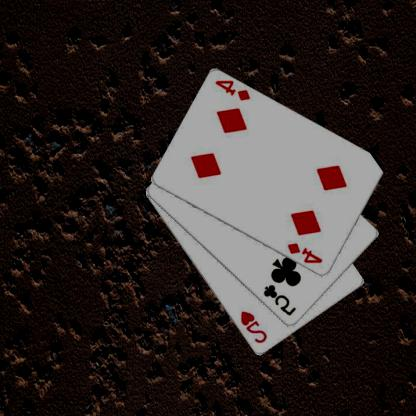2H: (240, 309, 271, 345)
4D: (214, 78, 254, 102), (287, 240, 325, 265)
5C: (262, 282, 298, 318)
